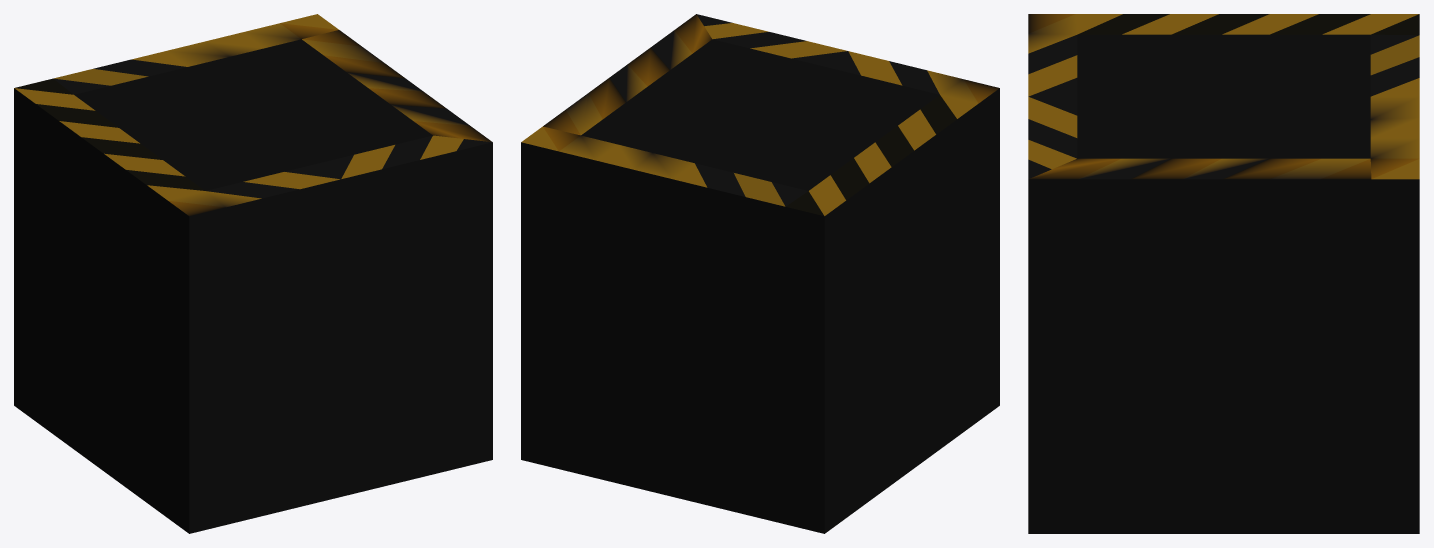
The model's file is Floor_TwoSided.fbx.
3 renders of one model, left to right at view 1: azimuth 30°, elevation 25°; view 2: azimuth 150°, elevation 25°; view 3: azimuth 270°, elevation 25°, orthographic. The views are drawn at different scales.
Visible parts, largest first — view 1: FactoryFloorBlock.005; view 2: FactoryFloorBlock.005; view 3: FactoryFloorBlock.005.
Boxes of the visible parts, box(x1,y1,x2,y2) form: FactoryFloorBlock.005: box(14, 14, 492, 533); FactoryFloorBlock.005: box(521, 14, 999, 533); FactoryFloorBlock.005: box(1028, 14, 1419, 533).
Size of the model in its own units: 100 by 100 by 100.
